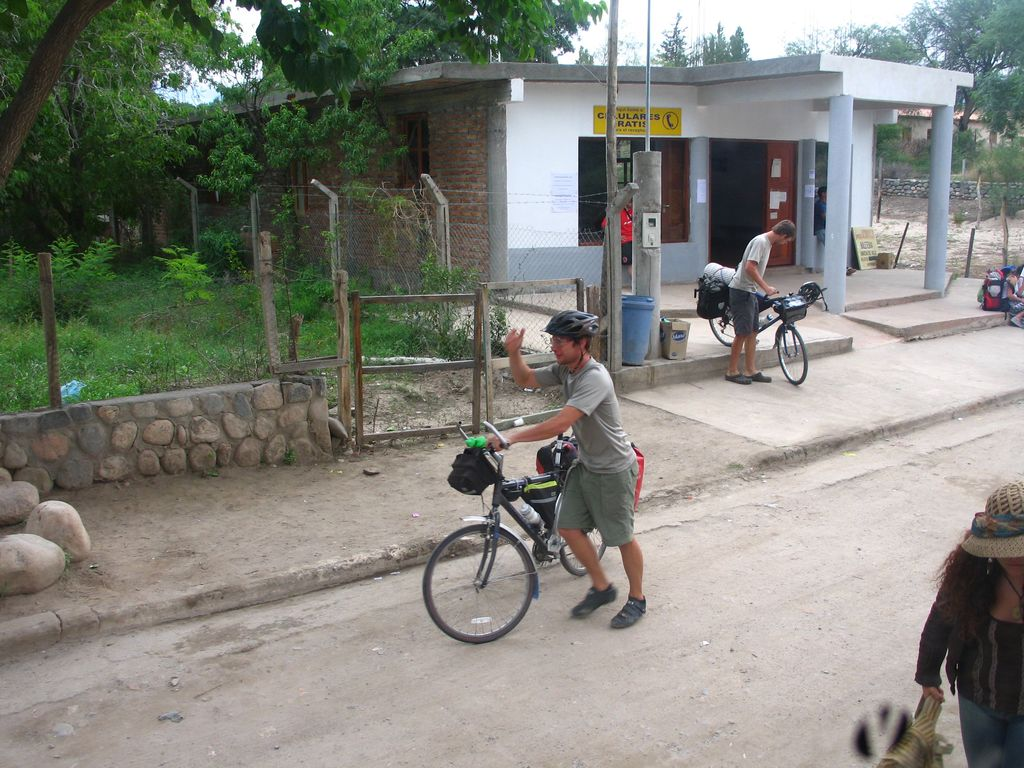Bike: (382, 410, 663, 692)
